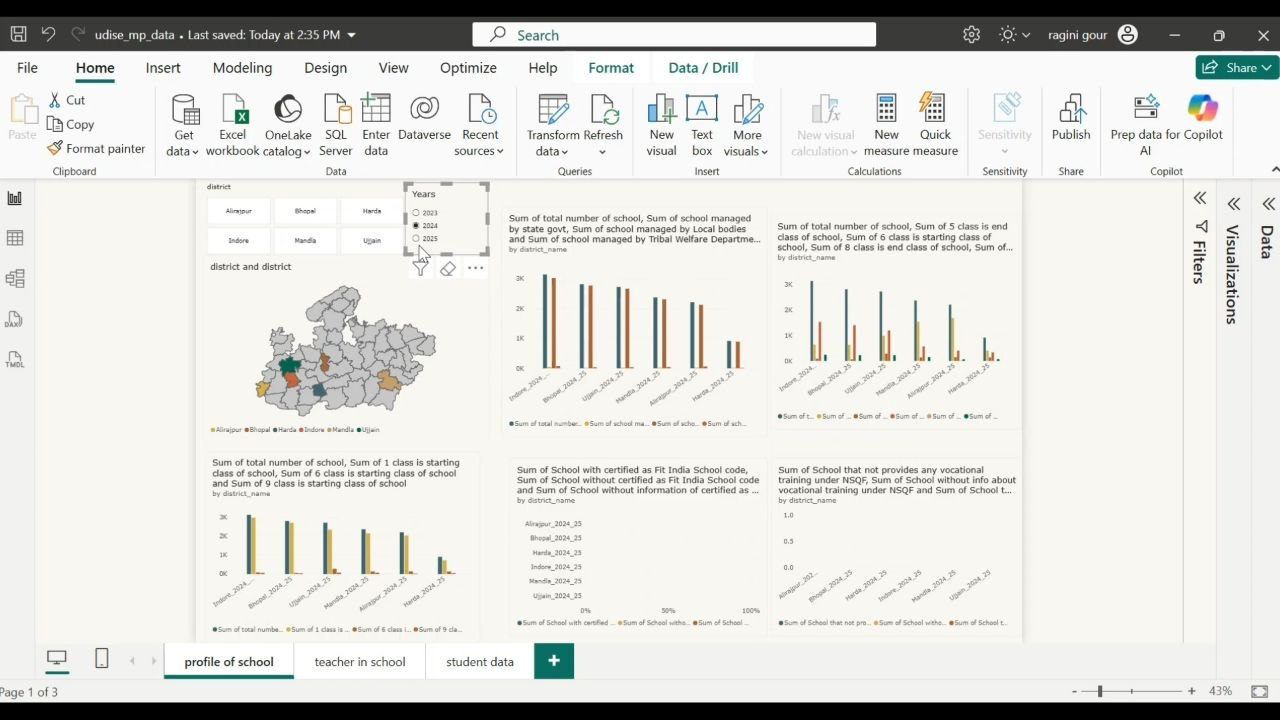

This screenshot's page, from the dashboard's own definition file:
{"tool":"powerbi","page":{"name":"profile of school","canvas":[1920,1080],"ordinal":0},"visuals":[{"type":"actionButton","box":[130,261.7,100,40],"z":0},{"type":"shapeMap","fields":{"Category":["DimDistrictYear.district"],"Series":["DimDistrictYear.district"]},"box":[16,178,664,438],"z":1000},{"type":"listSlicer","fields":{"Values":["DimDistrictYear.Years"]},"box":[485.9,10.4,194,168],"z":2000},{"type":"clusteredColumnChart","fields":{"Category":["DimDistrictYear.district_name"],"Y":["Sum(Profile_pivot (2).number of columns)","Sum(Profile_pivot (2).1 class is starting class of school)","Sum(Profile_pivot (2).6 class is starting class of school)","Sum(Profile_pivot (2).9 class is starting class of school)"]},"box":[20,634,638.3,446.7],"z":3000},{"type":"clusteredColumnChart","fields":{"Category":["DimDistrictYear.district_name"],"Y":["Sum(Profile_pivot (2).total number of school)","Sum(Profile_pivot (2).5 class is end class of school)","Sum(Profile_pivot (2).6 class is starting class of school)","Sum(Profile_pivot (2).8 class is end class of school)","Sum(Profile_pivot (2).9 class is end class of school)","Sum(Profile_pivot (2).10 class is end class of school)"]},"box":[1334,84,585,500],"z":4000},{"type":"clusteredColumnChart","fields":{"Category":["DimDistrictYear.district_name"],"Y":["Sum(Profile_pivot (2).total number of school)","Sum(Profile_pivot (2).school managed by state govt)","Sum(Profile_pivot (2).school managed by Local bodies)","Sum(Profile_pivot (2).school managed by Tribal Welfare Department)"]},"box":[710,66,618,536],"z":5000},{"type":"hundredPercentStackedBarChart","fields":{"Category":["DimDistrictYear.district_name"],"Y":["Sum(Profile_pivot (2).School with certified as Fit India School code)","Sum(Profile_pivot (2).School without certified as Fit India School code)","Sum(Profile_pivot (2).School without information of certified as Fit India School )"]},"box":[730,650,598.3,415],"z":6000},{"type":"columnChart","fields":{"Category":["DimDistrictYear.district_name"],"Y":["Sum(Profile_pivot (2).School provides any vocational training under NSQF:2| 1=Yes ,2= No,3= Unknown)","Sum(Profile_pivot (2).School provides any vocational training under NSQF:9| 1=Yes ,2= No,3= Unknown)","Sum(Profile_pivot (2).School provides any vocational training under NSQF:1| 1=Yes ,2= No,3= Unknown)"]},"box":[1336,650,585,415],"z":7000},{"type":"advancedSlicerVisual","fields":{"Values":["DimDistrictYear.district"]},"box":[25.9,10.4,460,167.7],"z":8000}]}

Visuals, with their boxes on the page's 1920x1080 design canvas (x1, y1, x2, y2). These are canvas units, not pixel positions in the 1280x720 screenshot, which may show the page scaled, cropped or inside an application window:
actionButton: 130:262:230:302
shapeMap - DimDistrictYear.district x DimDistrictYear.district: 16:178:680:616
listSlicer - DimDistrictYear.Years: 486:10:680:178
clusteredColumnChart - DimDistrictYear.district_name x Sum(Profile_pivot (2).number of columns): 20:634:658:1081
clusteredColumnChart - DimDistrictYear.district_name x Sum(Profile_pivot (2).total number of school): 1334:84:1919:584
clusteredColumnChart - DimDistrictYear.district_name x Sum(Profile_pivot (2).total number of school): 710:66:1328:602
hundredPercentStackedBarChart - DimDistrictYear.district_name x Sum(Profile_pivot (2).School with certified as Fit India School code): 730:650:1328:1065
columnChart - DimDistrictYear.district_name x Sum(Profile_pivot (2).School provides any vocational training under NSQF:2| 1=Yes ,2= No,3= Unknown): 1336:650:1921:1065
advancedSlicerVisual - DimDistrictYear.district: 26:10:486:178
